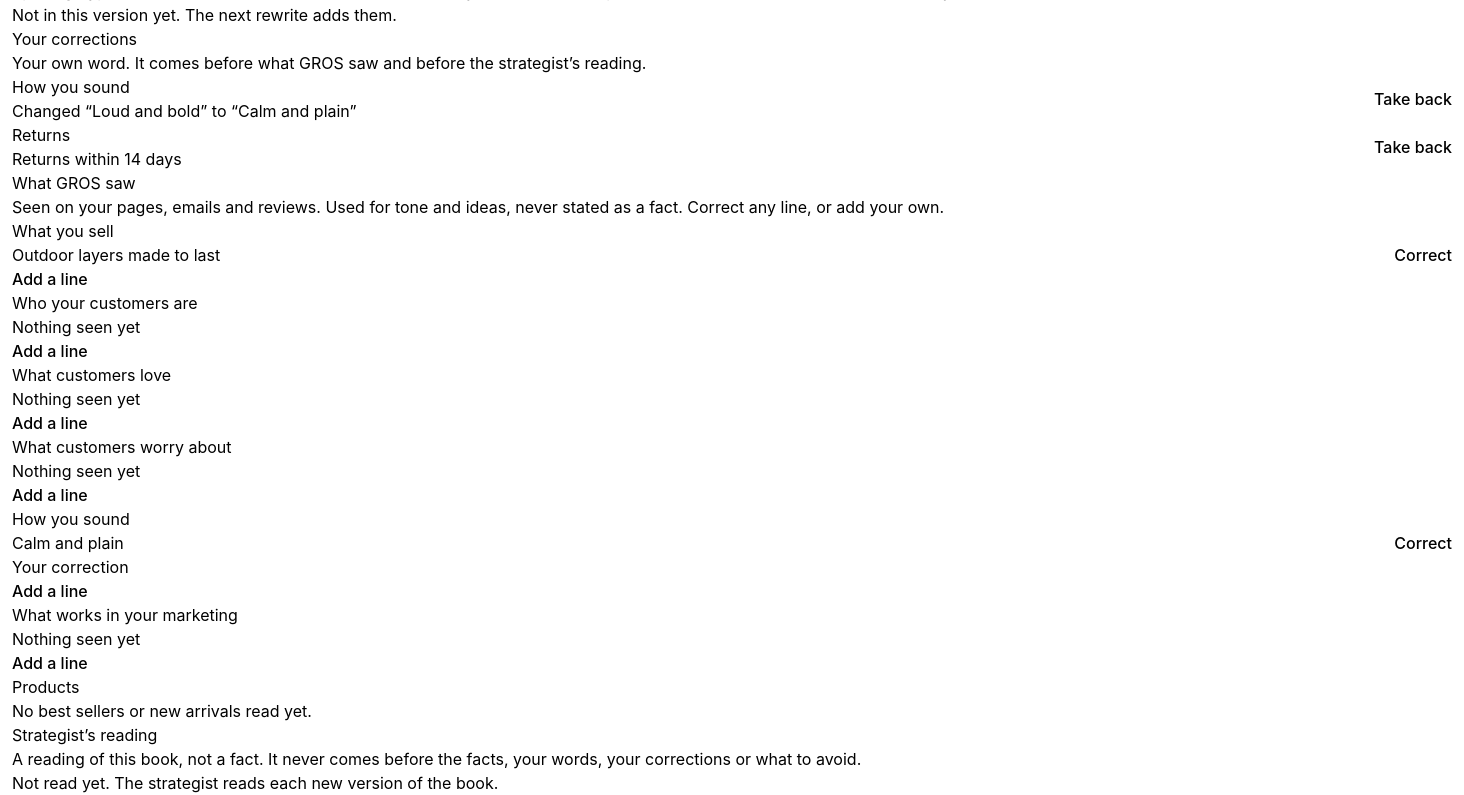
Test case: BrandBookScreen corrections › keeps the editor open when the correction is refused
(page scrolled)
What coordinates should you click on to do the following:
click the button with aria-label "Correct: Calm and plain"
I would click on:
 (1423, 543)
Its box is [1394, 531, 1452, 555].
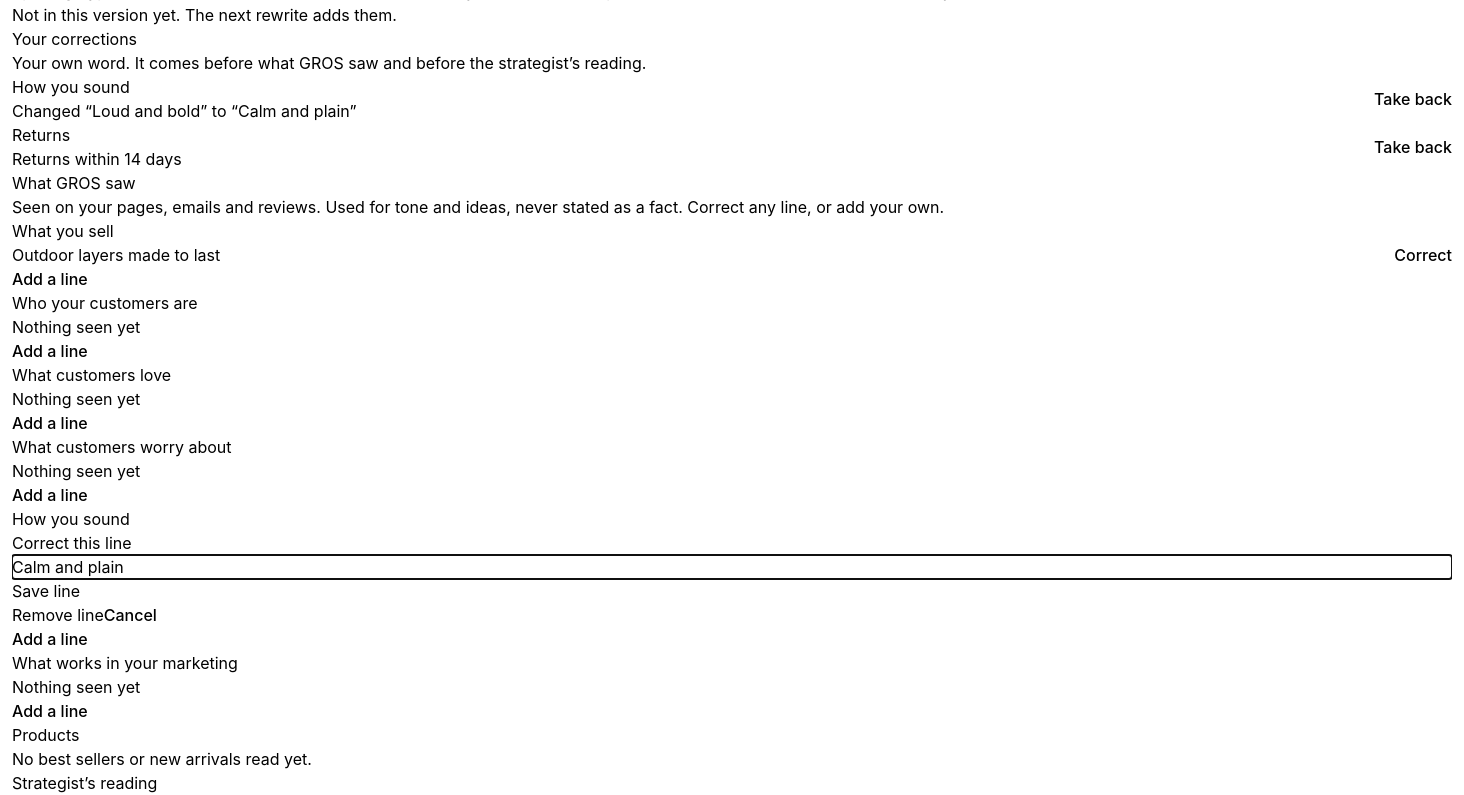
What coordinates should you click on to do the following:
click the button "Save line"
I would click on:
 (46, 591)
Its box is [12, 579, 80, 603].
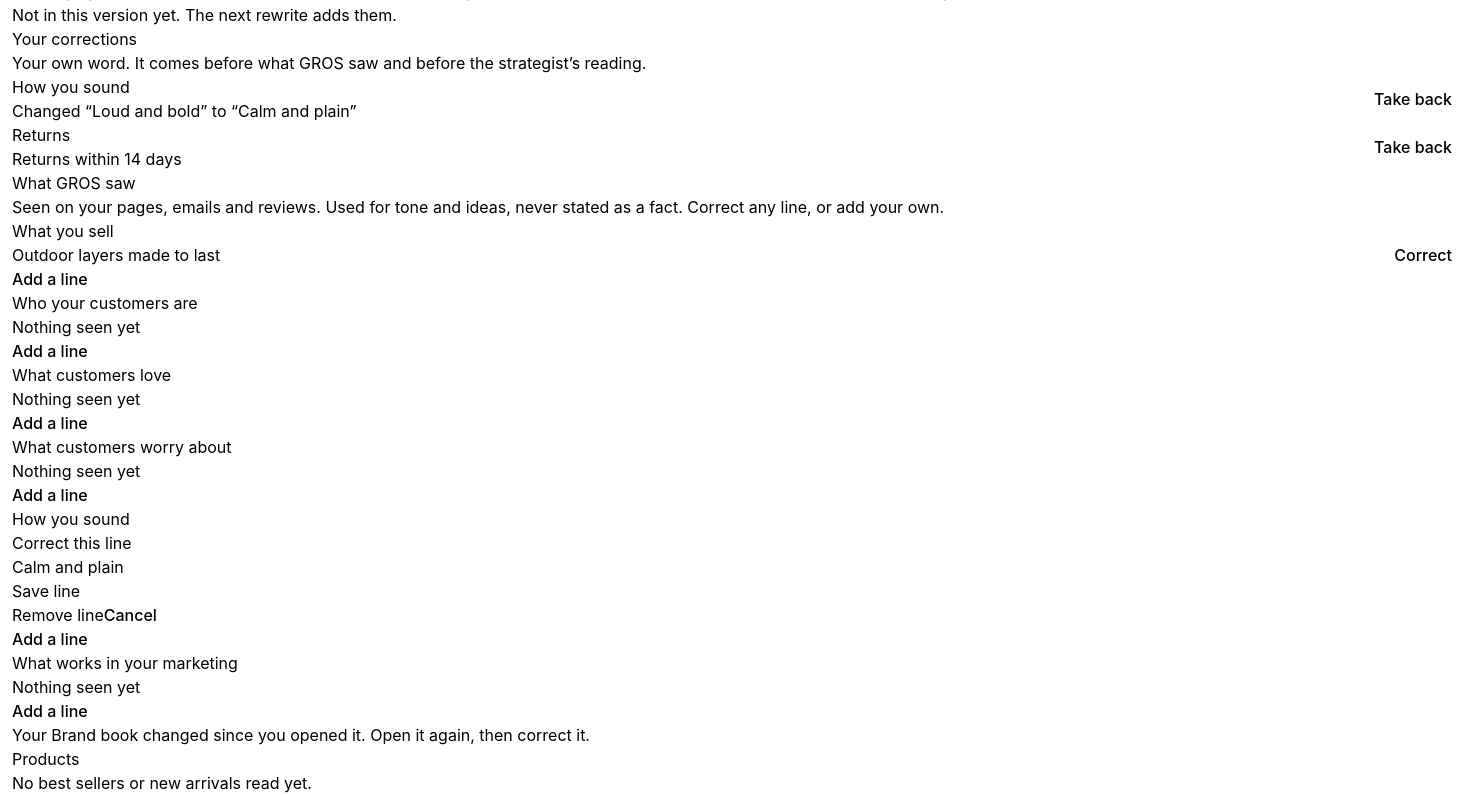
Check: the field labelled "Correct this line" is shown, box [12, 555, 1452, 579]
Check: the text "Your Brand book changed since you opened it. Open it again, then correct it." is shown, box [12, 725, 590, 745]
